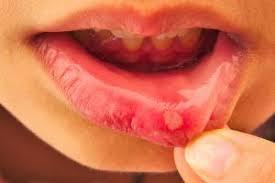Ulcer: (161, 107, 186, 132)
